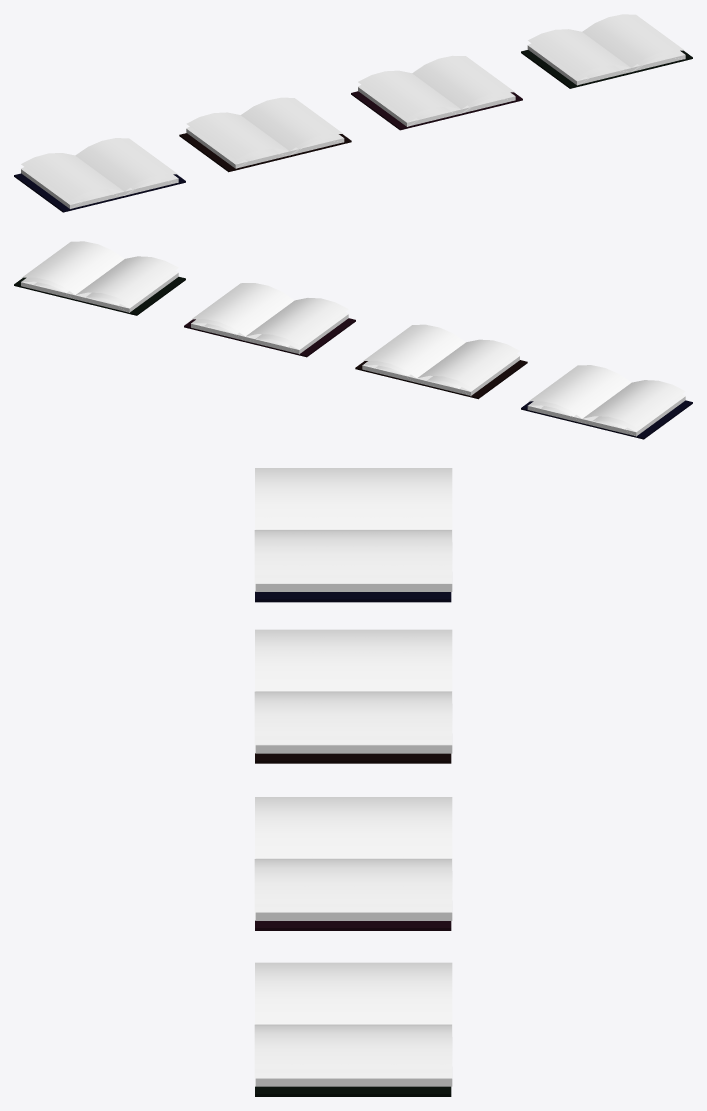
The model's file is 펼쳐용.FBX.
The picture shows the model from 3 angles, top to bottom: view 1: azimuth 30°, elevation 25°; view 2: azimuth 150°, elevation 25°; view 3: azimuth 270°, elevation 25°; orthographic projection. The views are drawn at different scales.
Visible parts, largest first — view 1: Plane024, Plane006, Plane012, Plane018, Plane025, Plane007, Plane019, Plane013, Box008, Box004, Box014, Box011 (+12 smaller); view 2: Plane006, Plane024, Plane018, Plane012, Plane007, Plane025, Plane013, Plane019, Box004, Box008, Box011, Box014 (+12 smaller); view 3: Plane025, Plane007, Plane013, Plane019, Plane012, Plane024, Plane006, Plane018, Box004, Box008, Box014, Box009 (+8 smaller).
Boxes of the visible parts, x1,y1,x2,y2 form: Plane024: [582, 14, 684, 67]; Plane006: [75, 138, 178, 191]; Plane012: [241, 97, 343, 150]; Plane018: [412, 55, 514, 109]; Plane025: [528, 29, 630, 76]; Plane007: [21, 153, 123, 200]; Plane019: [358, 70, 460, 117]; Plane013: [186, 112, 288, 159]; Box008: [179, 133, 351, 172]; Box004: [14, 173, 185, 212]; Box014: [521, 50, 692, 88]; Box011: [351, 91, 522, 130]; Plane006: [528, 365, 631, 418]; Plane024: [21, 241, 124, 294]; Plane018: [192, 283, 294, 336]; Plane012: [363, 324, 465, 377]; Plane007: [583, 380, 685, 427]; Plane025: [76, 256, 178, 303]; Plane013: [417, 339, 519, 386]; Plane019: [246, 298, 348, 345]; Box004: [521, 400, 692, 439]; Box008: [355, 360, 527, 399]; Box011: [184, 318, 355, 357]; Box014: [14, 277, 185, 315]; Plane025: [255, 962, 452, 1024]; Plane007: [255, 468, 452, 529]; Plane013: [255, 629, 452, 690]; Plane019: [255, 797, 452, 858]; Plane012: [254, 691, 451, 736]; Plane024: [254, 1024, 451, 1069]; Plane006: [254, 530, 451, 574]; Plane018: [254, 859, 451, 903]; Box004: [255, 591, 451, 602]; Box008: [255, 753, 451, 763]; Box014: [255, 1086, 451, 1096]; Box009: [255, 691, 452, 753].
Size of the model in its own units: 129 by 2.85 by 17.56.
